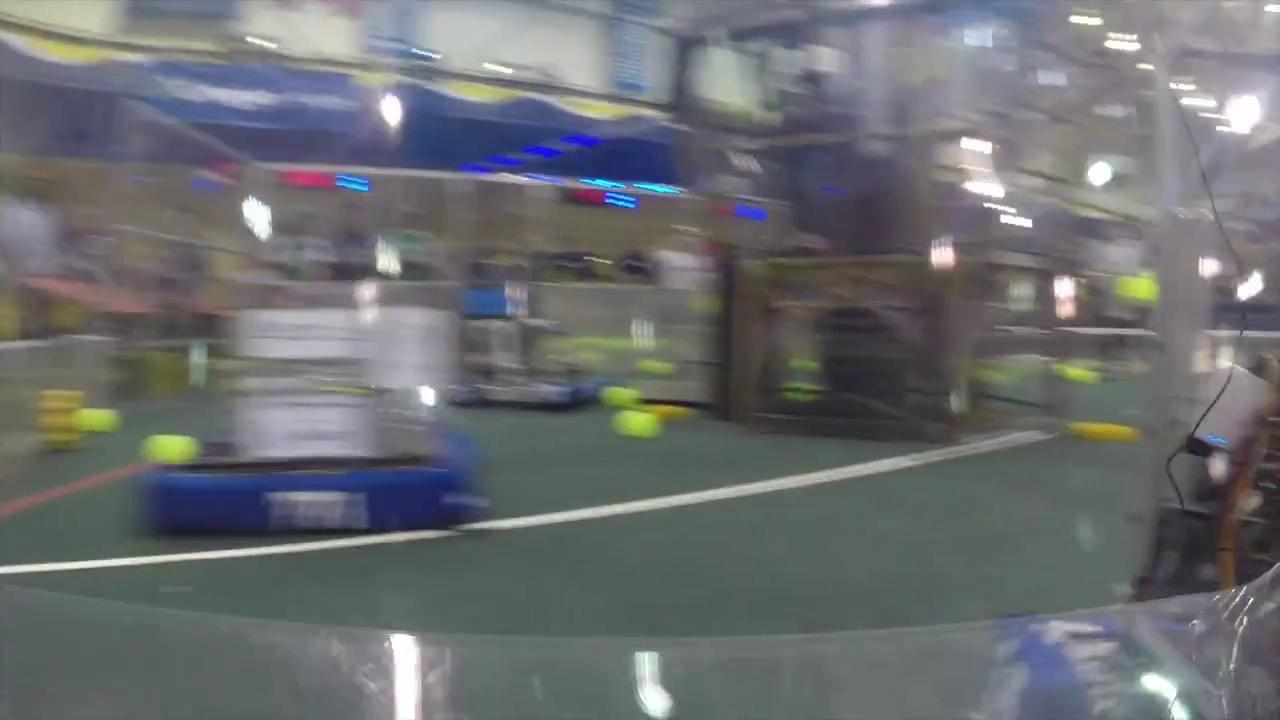robot: (136, 261, 489, 539), (433, 296, 617, 420)
